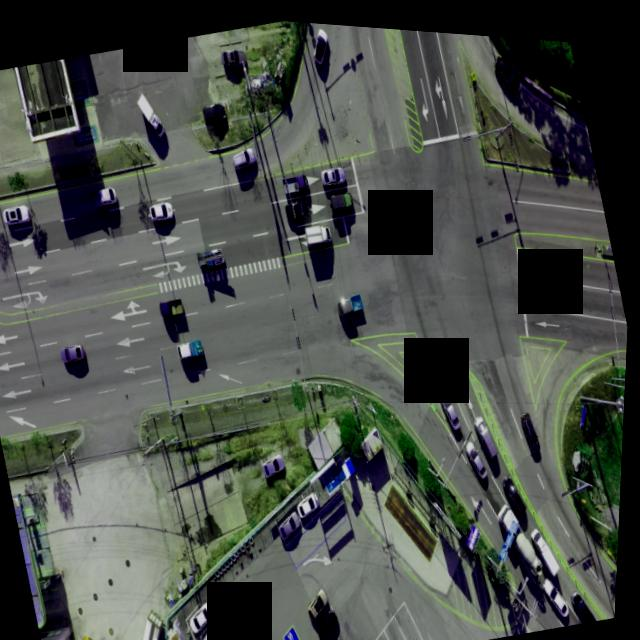car: (472, 405, 503, 456), (518, 402, 546, 457), (543, 564, 574, 612), (440, 378, 468, 427), (503, 467, 532, 510), (466, 429, 492, 474), (491, 46, 520, 86), (307, 581, 339, 617), (572, 576, 600, 616), (308, 20, 333, 61), (319, 604, 348, 639), (190, 599, 219, 632), (232, 139, 260, 170), (278, 508, 306, 538), (298, 488, 325, 516), (3, 202, 32, 228), (265, 447, 291, 474), (150, 197, 176, 222), (202, 96, 229, 120), (328, 185, 356, 208), (64, 340, 90, 363), (220, 43, 245, 66), (320, 159, 346, 181), (288, 198, 313, 220), (199, 626, 225, 640)
medium_truck: (500, 492, 553, 577), (121, 608, 181, 640)
small_truck: (531, 510, 565, 566), (136, 89, 167, 138), (304, 217, 335, 243), (90, 181, 119, 208), (283, 166, 312, 191), (338, 286, 367, 311), (178, 334, 207, 358), (199, 244, 228, 268), (159, 292, 187, 315)
